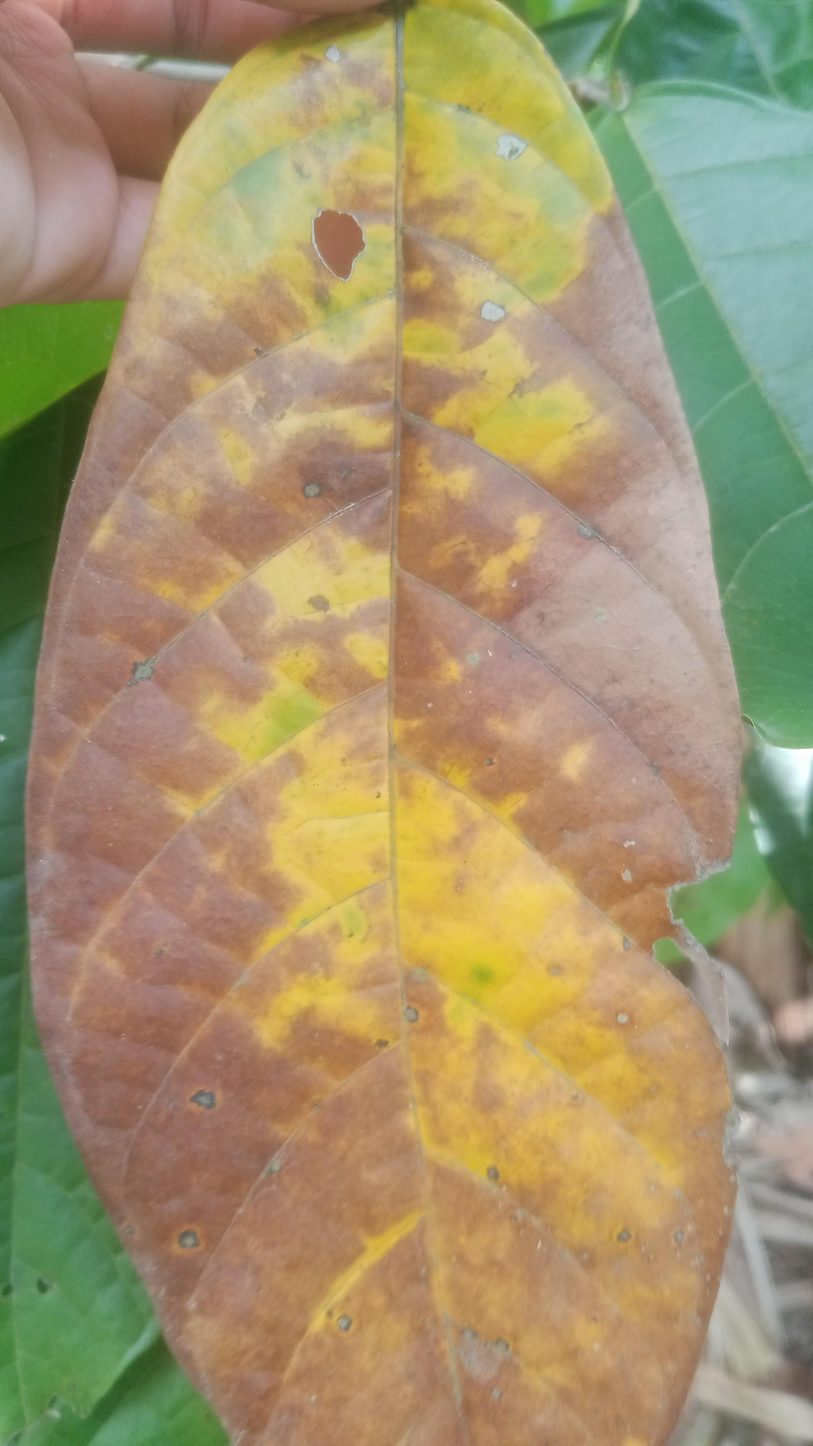deficiencia_potasio: (26, 0, 757, 1446)
